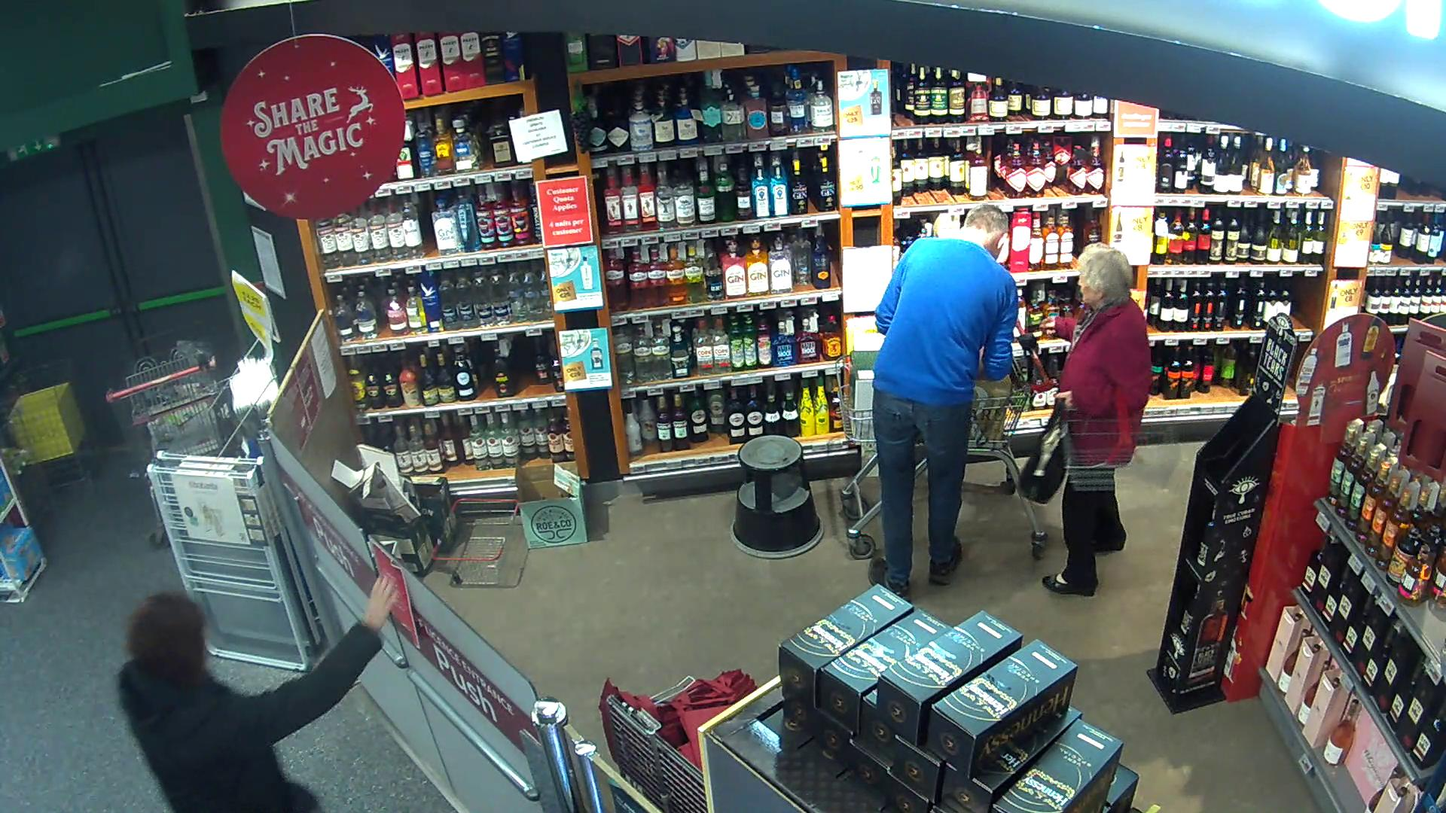backpack-or-handbag: (1018, 399, 1071, 505)
empty-basket: (1063, 411, 1180, 492)
person: (1043, 240, 1151, 599)
person-with-basket-trolly-and-backpack-handbag: (1019, 239, 1179, 601)
